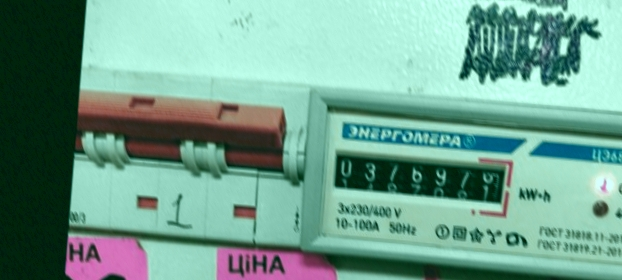0: (339, 156, 353, 177)
1: (479, 182, 491, 201)
3: (362, 160, 377, 181)
6: (409, 160, 424, 182)
7: (385, 159, 400, 181), (457, 166, 471, 189)
9: (433, 164, 447, 186)
screen: (323, 140, 518, 218)
